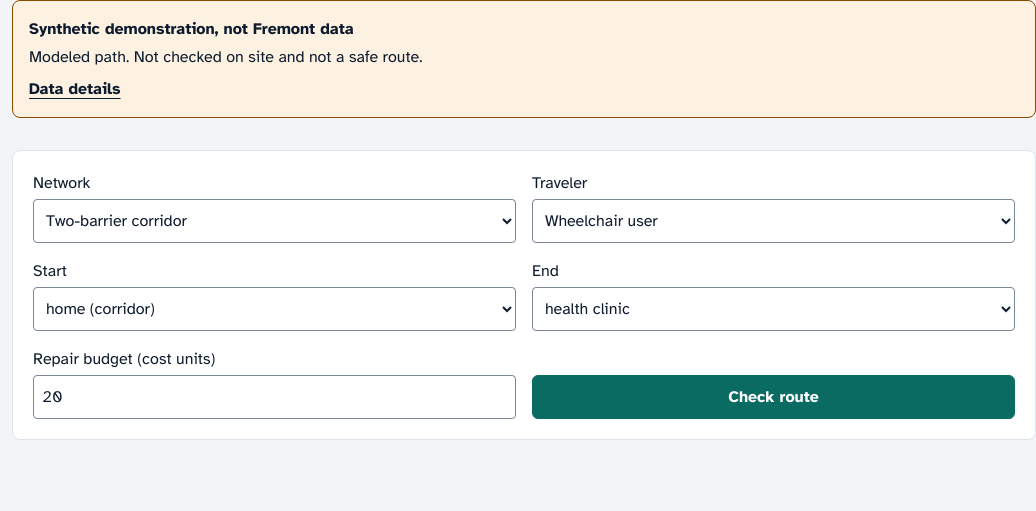
Test case: re-enables the check when the network changes during a request
The width and height of the screenshot is (1036, 511).
Expected: the dropdown labelled "Start" is shown, [33, 287, 516, 331]
Click the button "Check route": (774,397) [532, 375, 1015, 419]
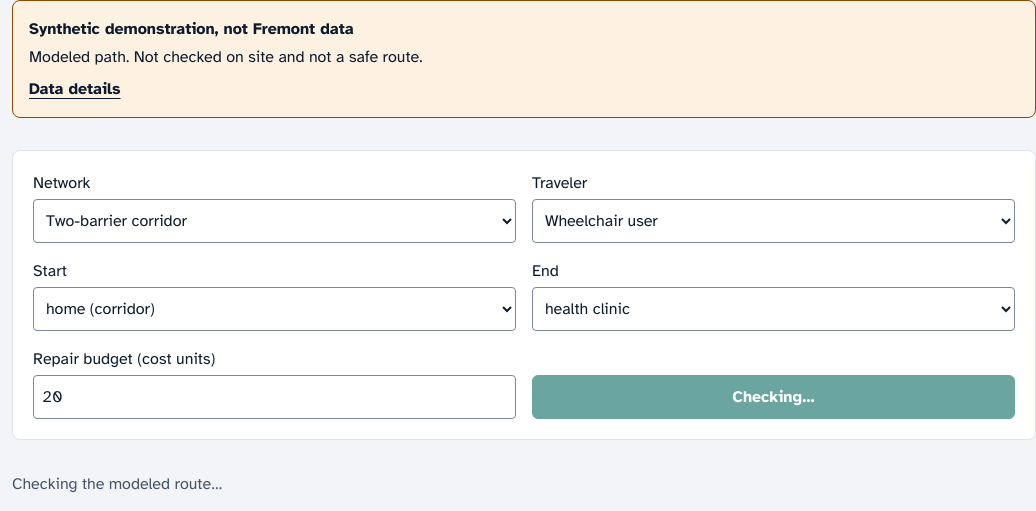
Result: the text "Checking the modeled route…" is shown at [12, 474, 222, 494]
Select "Fremont pilot, real streets (OpenStreetMap)" in the dropdown labelled "Network": (274,221) [33, 199, 516, 243]
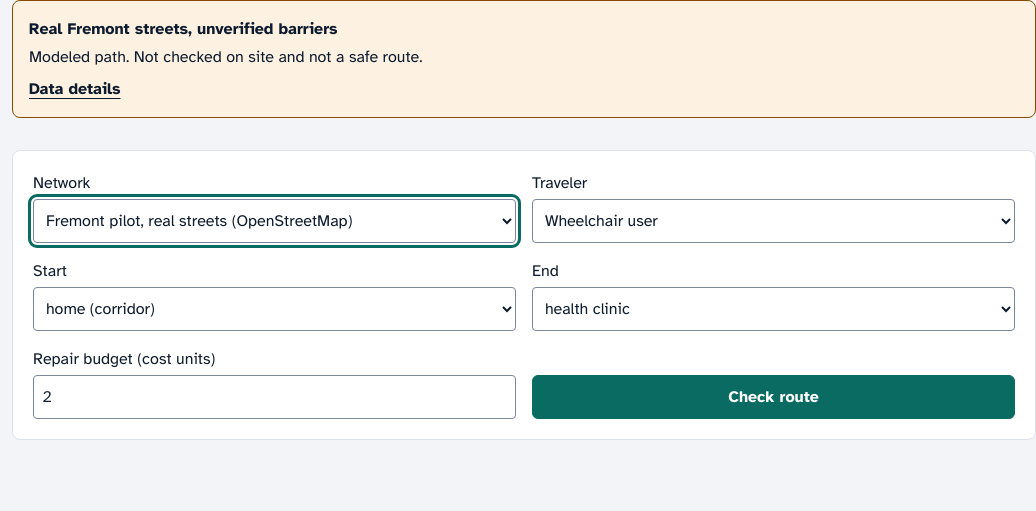
Result: the button "Check route" is enabled at [532, 375, 1015, 419]
Result: the text "Checking the modeled route…" is gone
